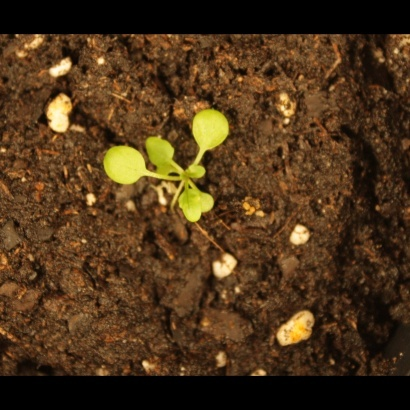leaf: (101, 142, 148, 189), (191, 104, 233, 156), (144, 134, 177, 172), (177, 186, 202, 223), (183, 160, 206, 183), (197, 190, 220, 213)
